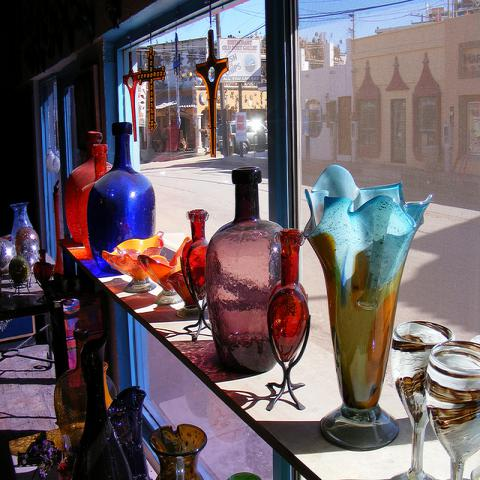car: (228, 119, 268, 151)
